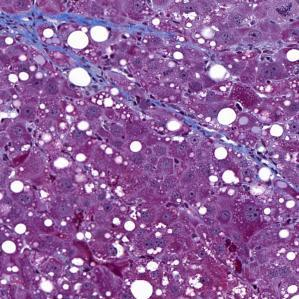fibrosis: (19, 12, 121, 81), (184, 118, 269, 168)
